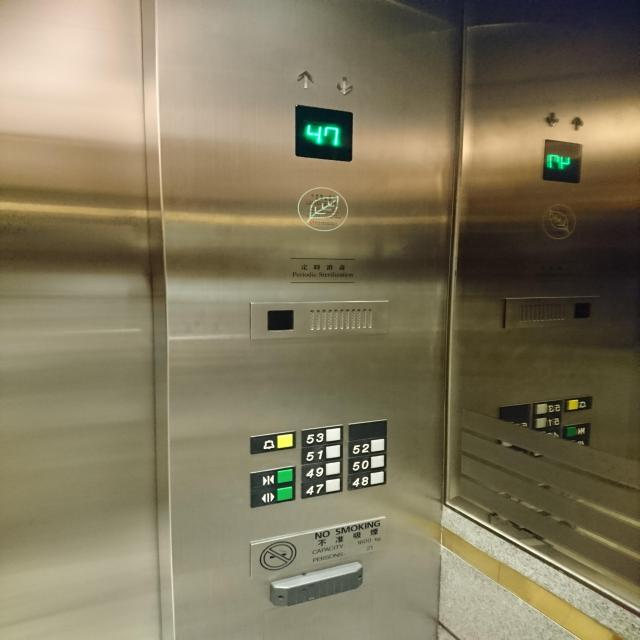47: (300, 475, 344, 499)
48: (348, 469, 387, 491)
49: (301, 459, 344, 482)
50: (348, 452, 388, 474)
51: (300, 442, 344, 465)
52: (347, 437, 388, 458)
53: (300, 422, 343, 448)
alarm: (249, 430, 296, 454), (565, 395, 594, 413)
close: (250, 464, 296, 490), (564, 422, 592, 438)
led: (294, 101, 356, 162), (542, 137, 582, 185)
open: (250, 485, 297, 508)
unknown: (532, 414, 564, 429), (534, 399, 562, 414)
